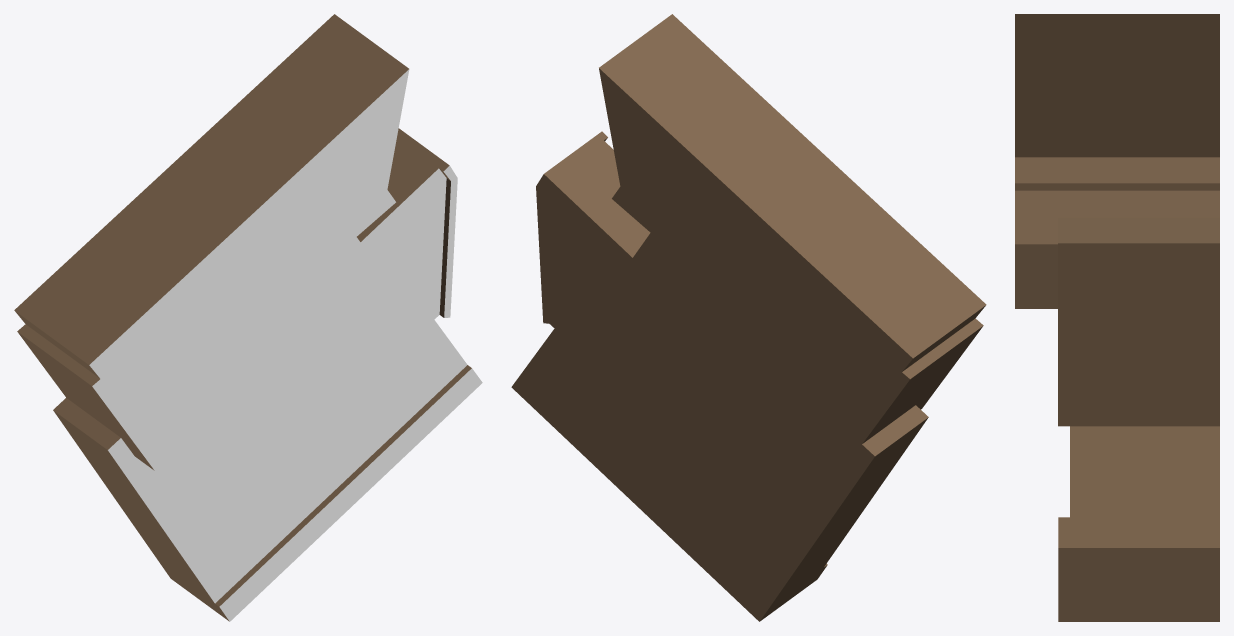
File: Groupe9951525.obj
3 views of the same model, side by side, from view 1: azimuth 30°, elevation 25°; view 2: azimuth 150°, elevation 25°; view 3: azimuth 270°, elevation 25° (orthographic). The views are drawn at different scales.
Parts seen in each view (by area): view 1: City_Groupe9951525; view 2: City_Groupe9951525; view 3: City_Groupe9951525.
Part boxes in pixels (x1,y1,x2,y2): City_Groupe9951525: (14,14,482,621); City_Groupe9951525: (511,14,986,621); City_Groupe9951525: (1015,14,1219,621).
Bounding box in the file's own units: 4658 × 5705 × 1478.
